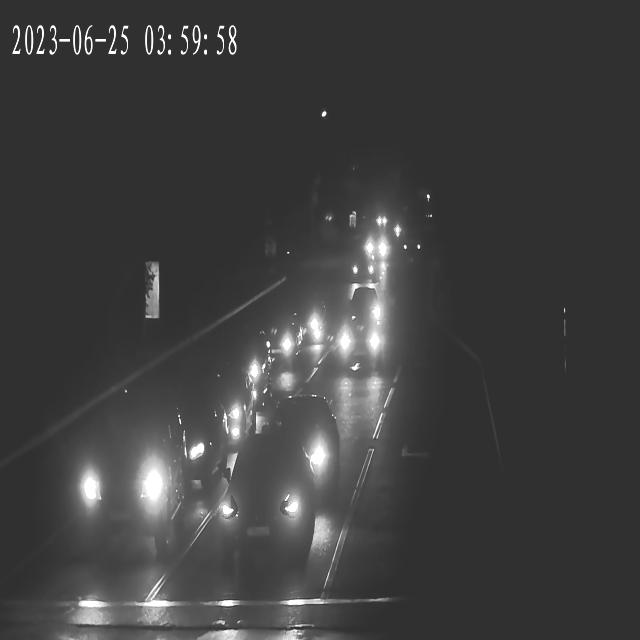Car: (58, 411, 185, 542), (212, 454, 318, 575), (252, 398, 340, 499), (200, 335, 274, 406), (329, 307, 386, 373), (249, 312, 308, 369), (281, 299, 332, 349), (340, 287, 387, 329), (341, 256, 377, 286), (359, 235, 390, 259), (371, 214, 390, 230)
